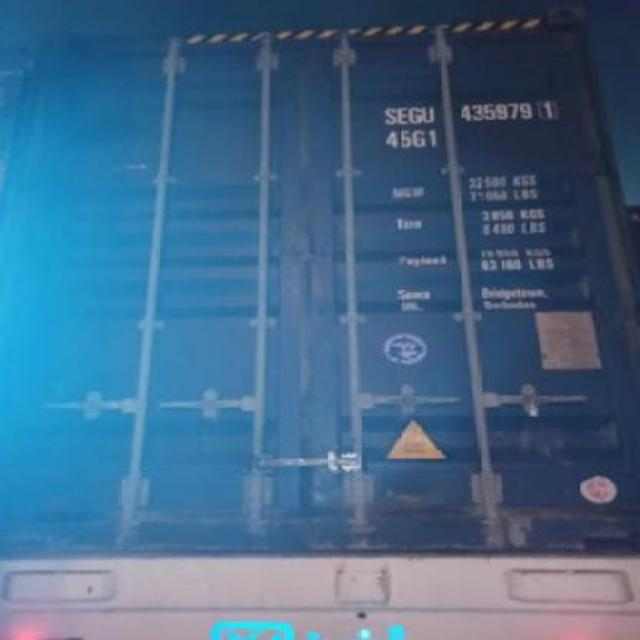1: (536, 98, 556, 122)
3: (470, 100, 482, 124)
4: (458, 96, 472, 126)
5: (484, 97, 496, 123)
7: (506, 95, 520, 128)
9: (496, 96, 508, 124), (520, 95, 532, 121)
E: (396, 103, 408, 127)
G: (410, 104, 422, 125)
S: (378, 101, 398, 125)
U: (421, 100, 434, 124)
